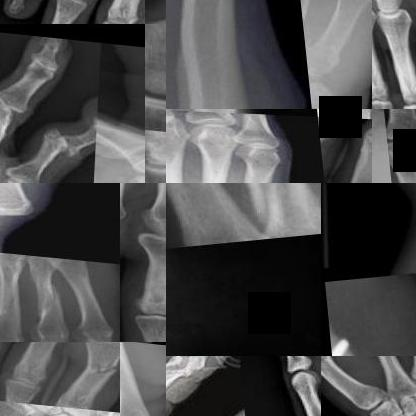fracture: (321, 276, 401, 355), (227, 183, 316, 245), (38, 115, 81, 162), (73, 342, 119, 380), (301, 30, 341, 70), (29, 274, 70, 310), (0, 280, 31, 318), (91, 109, 98, 133)
